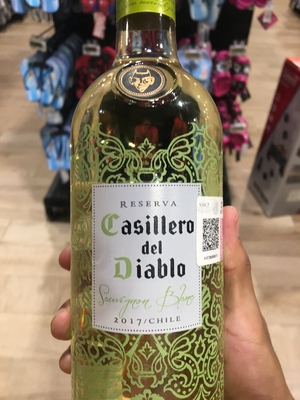casillero del diablo sauvignon blanc: (67, 21, 238, 400)
